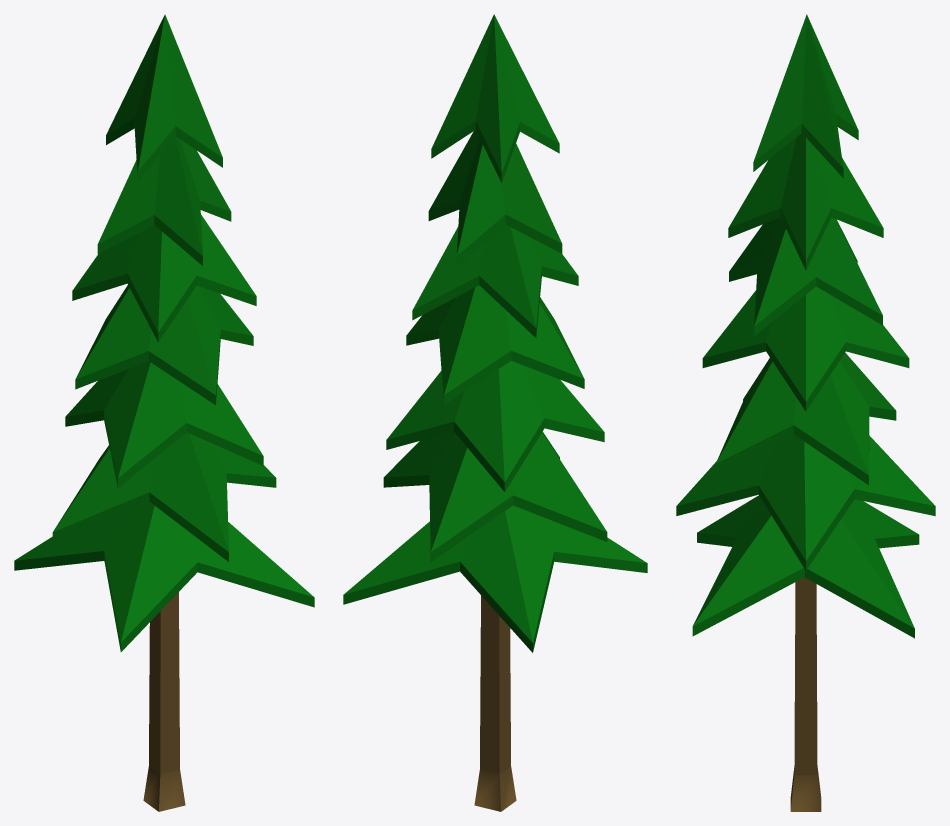
File: Tree-02.fbx
The picture shows the model from 3 angles, left to right: view 1: azimuth 30°, elevation 25°; view 2: azimuth 150°, elevation 25°; view 3: azimuth 270°, elevation 25°; orthographic projection.
Visible parts, largest first — view 1: Trees-02; view 2: Trees-02; view 3: Trees-02.
Part boxes in pixels (x1,y1,x2,y2): Trees-02: (14,14,314,811); Trees-02: (343,14,647,811); Trees-02: (676,14,935,811).
Size of what is drawn, in the model's own units: 3.68 by 12.38 by 3.68.
